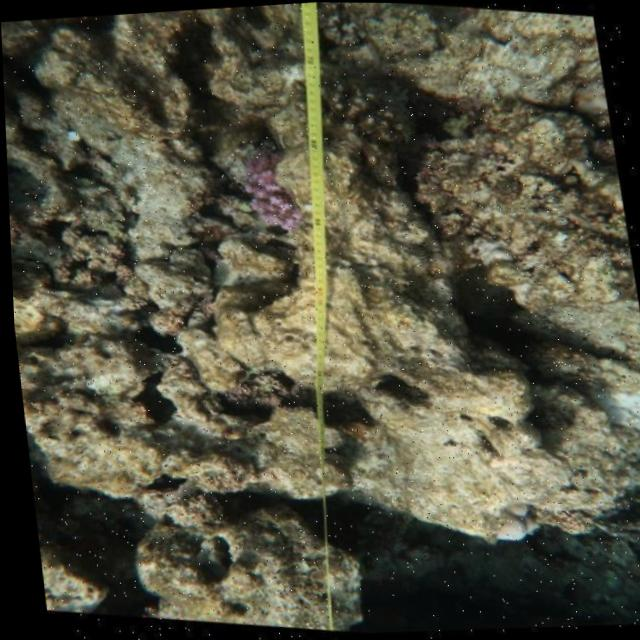Healthy Coral: (235, 148, 311, 238)
